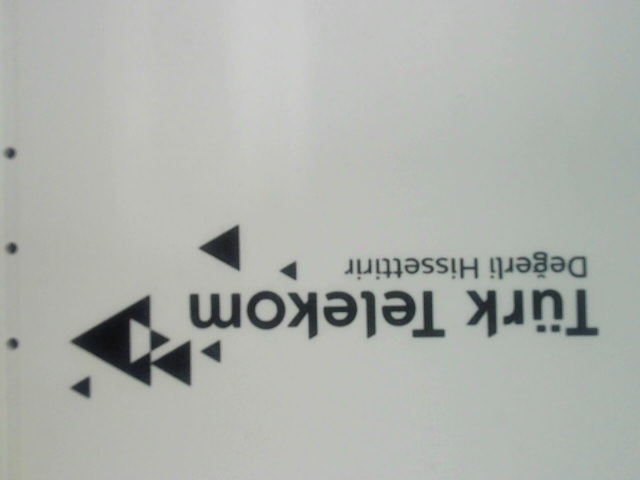AQ_TURKTelekom: (43, 225, 603, 408)
